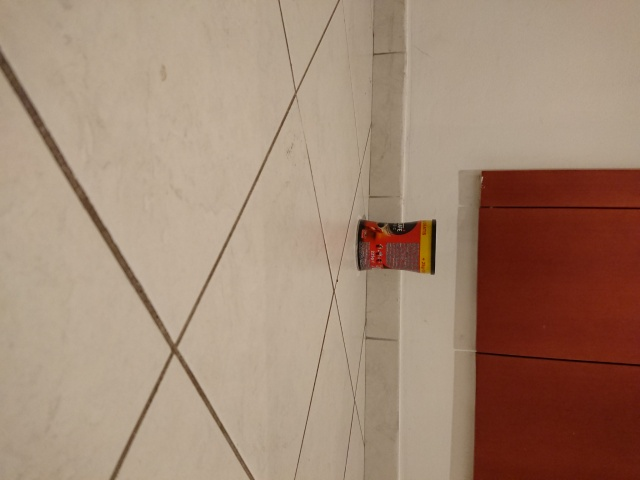Nescafe Classic 225g: (353, 216, 439, 277)
